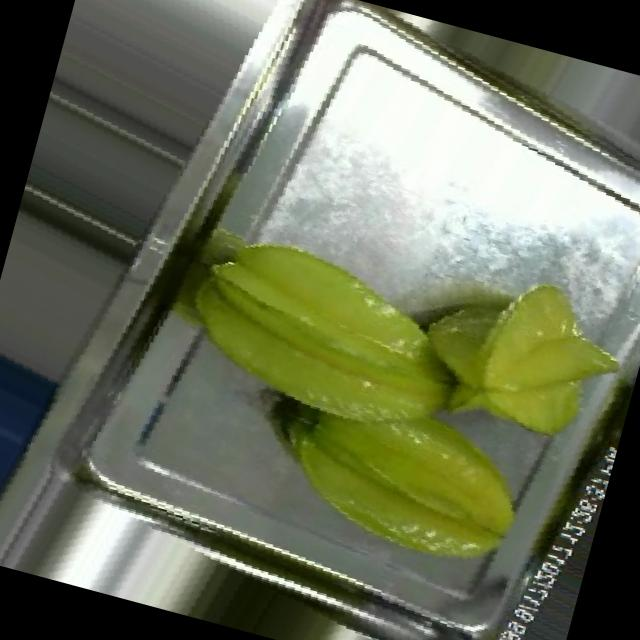fruit: (136, 179, 526, 502), (225, 353, 572, 615), (376, 226, 640, 479)
